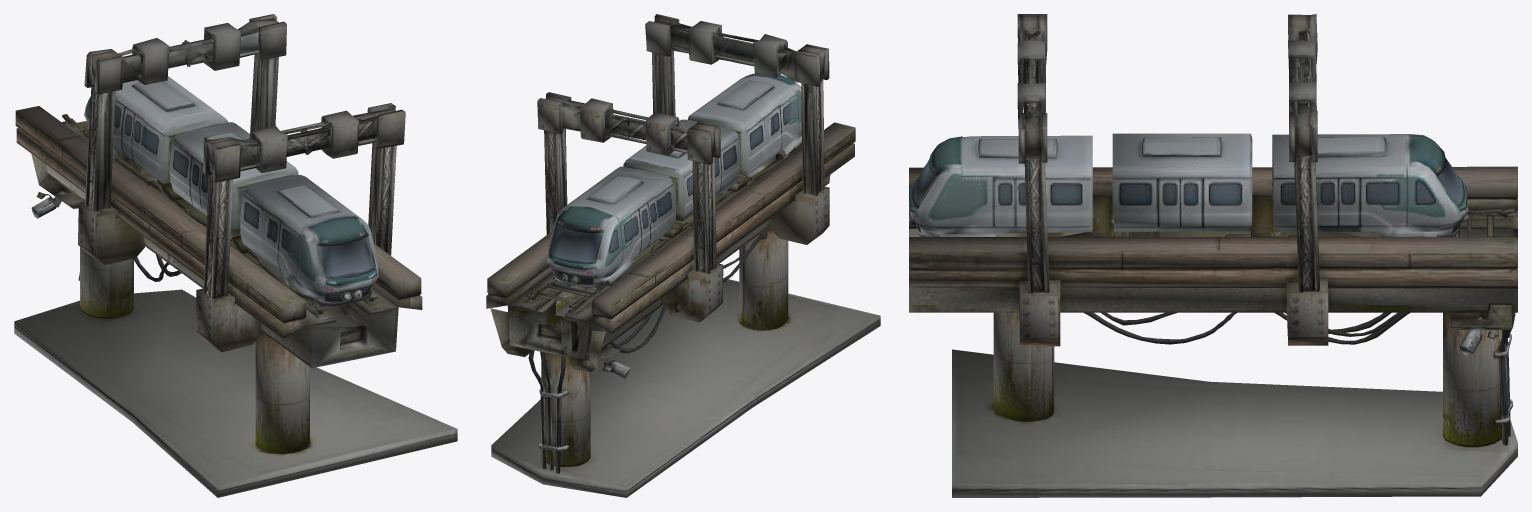
Rendered from city_skytrain.glb.
3 views of the same model, side by side, from view 1: azimuth 30°, elevation 25°; view 2: azimuth 150°, elevation 25°; view 3: azimuth 270°, elevation 25° (orthographic). The views are drawn at different scales.
Visible parts, largest first — view 1: Body; view 2: Body; view 3: Body.
Part boxes in pixels (<box>): Body: <box>14,14,457,497</box>; Body: <box>486,14,880,497</box>; Body: <box>909,14,1517,497</box>.
Bounding box in the file's own units: 10 × 13.7 × 19.28.
1 material, 1 textured.
